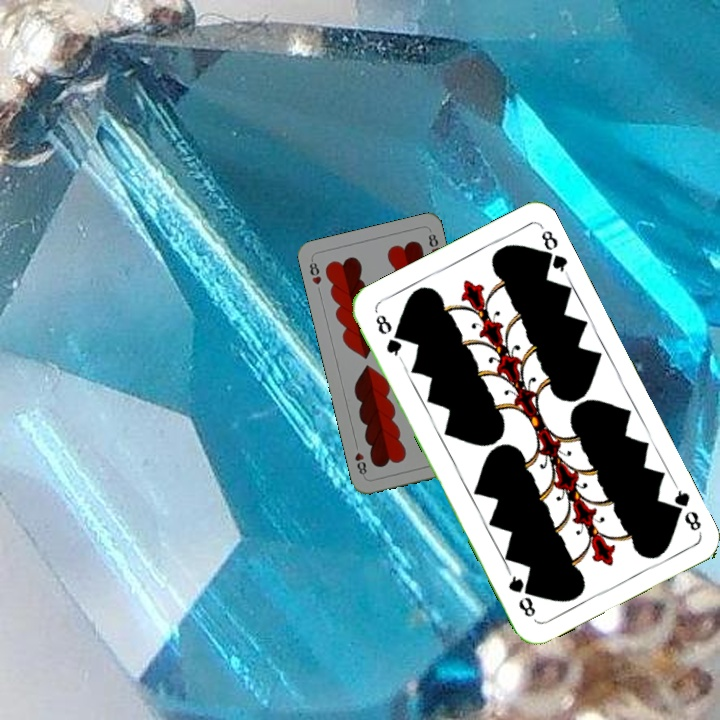G8: (665, 480, 704, 535), (371, 310, 405, 363)
H8: (305, 255, 324, 287)
